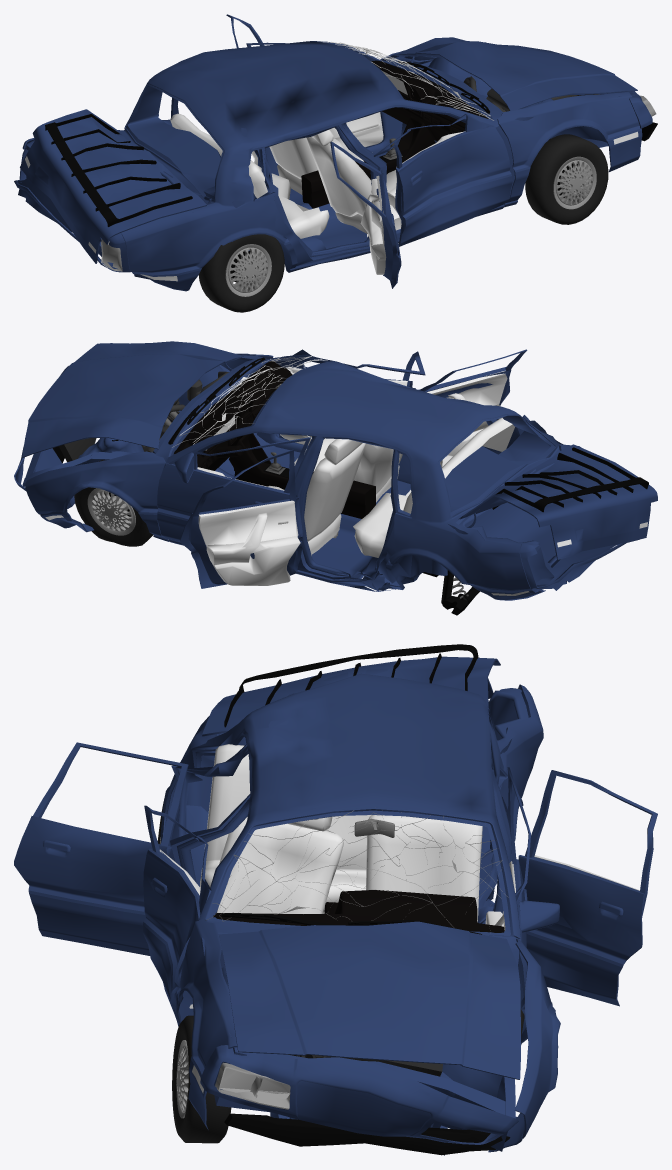
File: wrecked_blue_car_01.glb
3 renders of one model, top to bottom at view 1: azimuth 30°, elevation 25°; view 2: azimuth 150°, elevation 25°; view 3: azimuth 270°, elevation 25°, orthographic. The views are drawn at different scales.
Visible parts, largest first — view 1: legran_headlightframe_R; view 2: legran_headlightframe_R; view 3: legran_headlightframe_R.
Boxes of the visible parts, <box> form: legran_headlightframe_R: <box>14,14,657,312</box>; legran_headlightframe_R: <box>14,341,657,615</box>; legran_headlightframe_R: <box>14,644,657,1155</box>.
Bounding box in the file's own units: 456 × 135 × 318.
